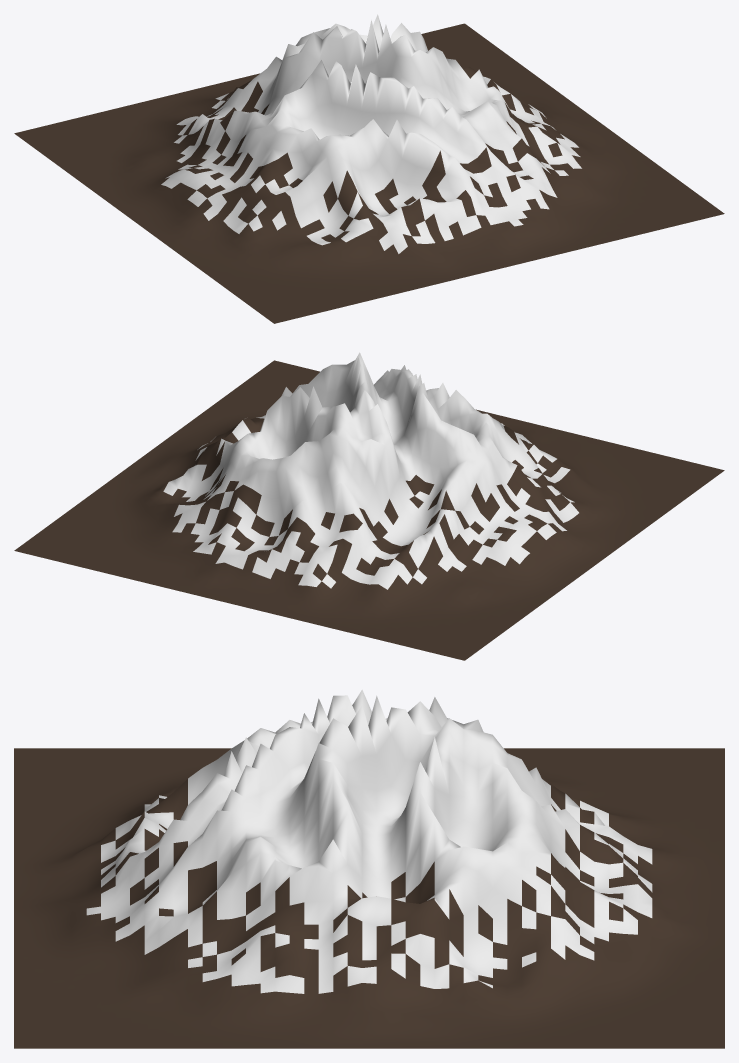
3 renders of one model, top to bottom at view 1: azimuth 30°, elevation 25°; view 2: azimuth 150°, elevation 25°; view 3: azimuth 270°, elevation 25°, orthographic. The views are drawn at different scales.
Visible parts, largest first — view 1: Landscape.001; view 2: Landscape.001; view 3: Landscape.001.
Boxes of the visible parts, x1=… form: Landscape.001: x1=14, y1=14, x2=724, y2=323; Landscape.001: x1=14, y1=352, x2=724, y2=660; Landscape.001: x1=14, y1=689, x2=724, y2=1048.
Size of the model in its own units: 16.2 by 5.19 by 16.2.
